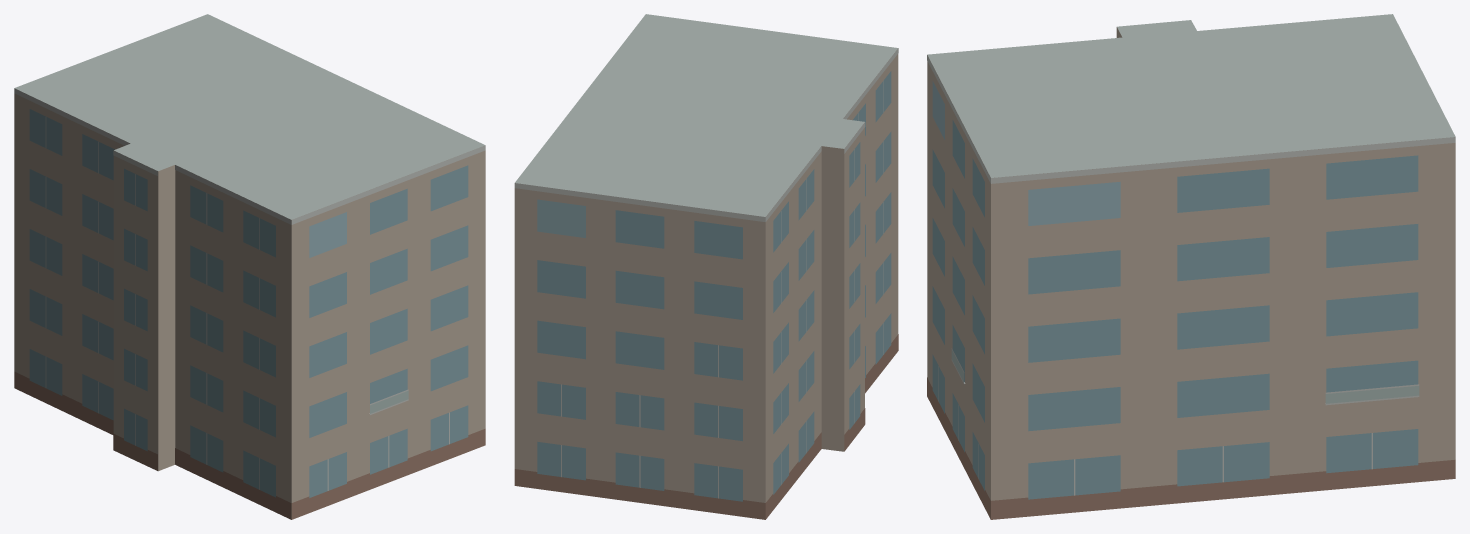
The model's file is survey-upis-32534310.glb.
The picture shows the model from 3 angles, left to right: view 1: azimuth 30°, elevation 25°; view 2: azimuth 150°, elevation 25°; view 3: azimuth 270°, elevation 25°; orthographic projection. The views are drawn at different scales.
Parts seen in each view (by area): view 1: survey-upis-32534310.tmp; view 2: survey-upis-32534310.tmp; view 3: survey-upis-32534310.tmp.
Part boxes in pixels (x1,y1,x2,y2): survey-upis-32534310.tmp: (14, 14, 485, 519); survey-upis-32534310.tmp: (514, 14, 898, 519); survey-upis-32534310.tmp: (927, 14, 1455, 519).
Size of the model in its own units: 14.73 by 14.3 by 20.05.
